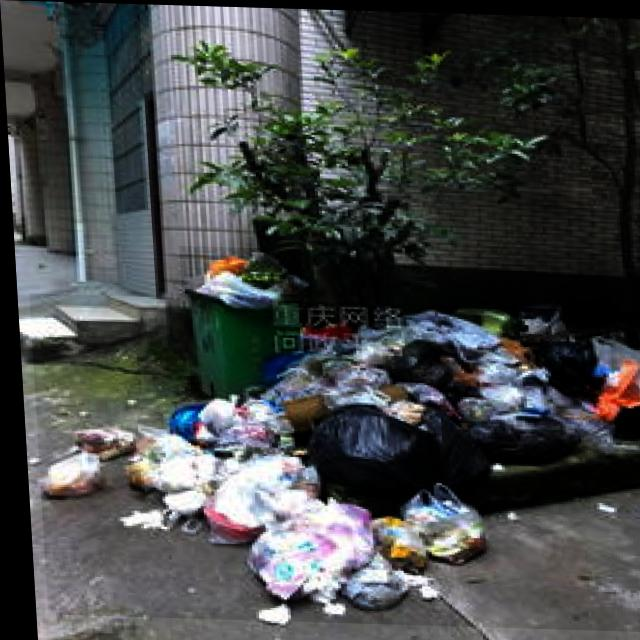garbage: (26, 293, 640, 629)
overflow: (176, 245, 305, 397)
